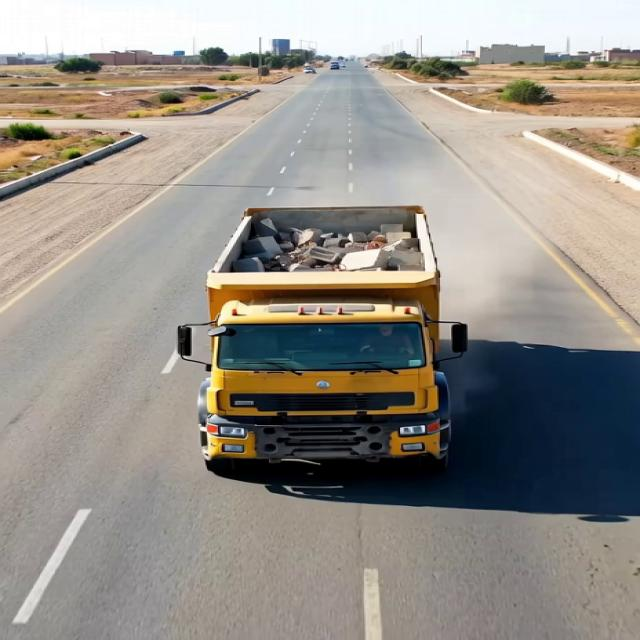trailer: (205, 204, 444, 288)
truck: (172, 198, 474, 481)
